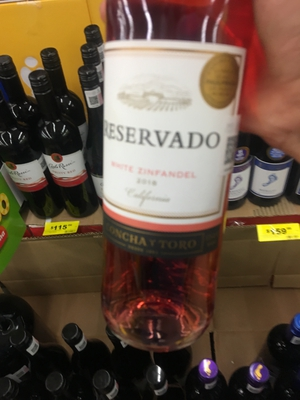reservado white zinfandel: (84, 5, 242, 340)
